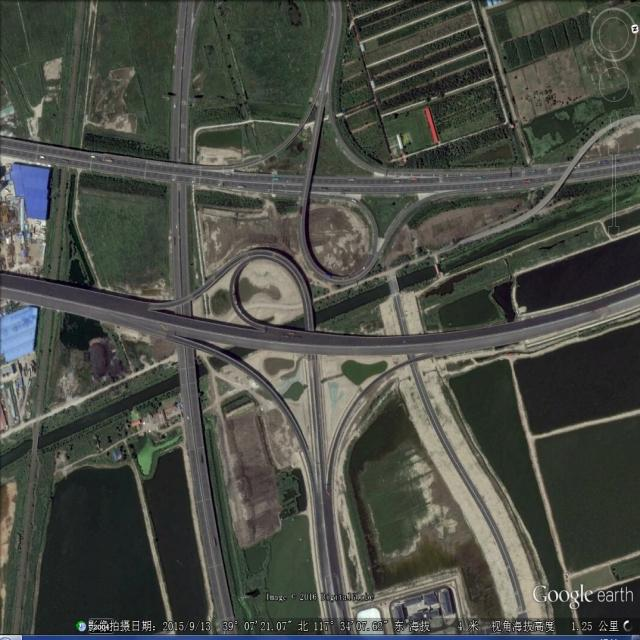overpass: (146, 69, 460, 493)
